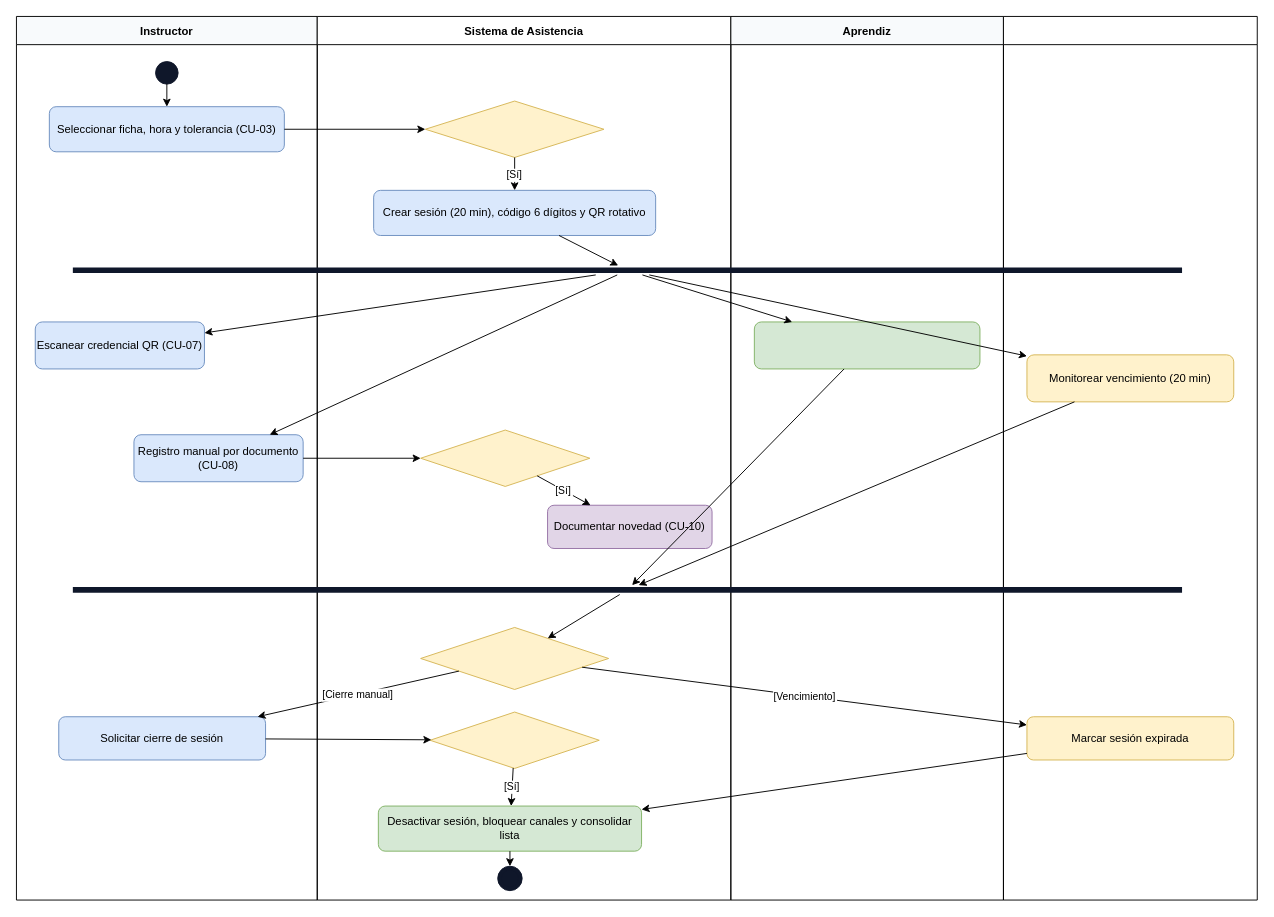
This 1274x917 diagram has some shape labels left out. The box of each missing label's shape, as (x1, y1, x2, y2) in pixels:
Autorregistro móvil (CU-04 + CU-05): (753, 321, 980, 369)
Temporizador: (1003, 16, 1257, 900)
¿Causal de contingencia?: (420, 429, 590, 486)
¿Cierre manual o vencimiento?: (420, 627, 609, 689)
¿Ficha activa y tolerancia 0..120?: (424, 100, 604, 157)
¿Instructor propietario?: (429, 711, 599, 768)
